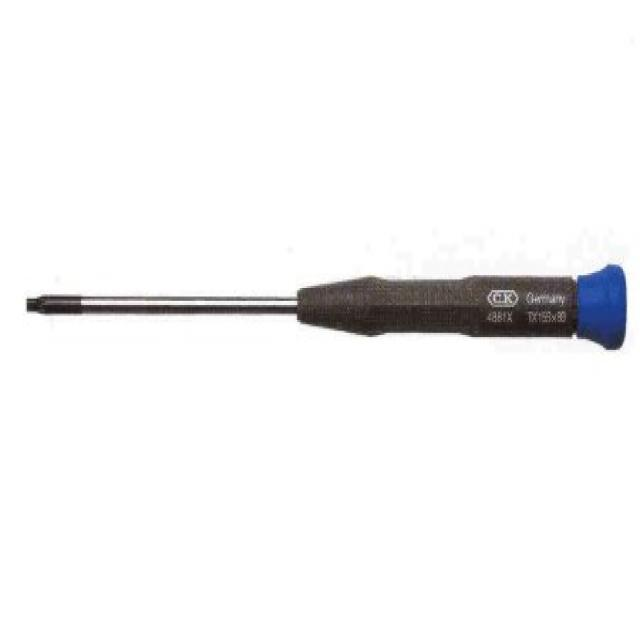screwdriver: (16, 255, 638, 358)
